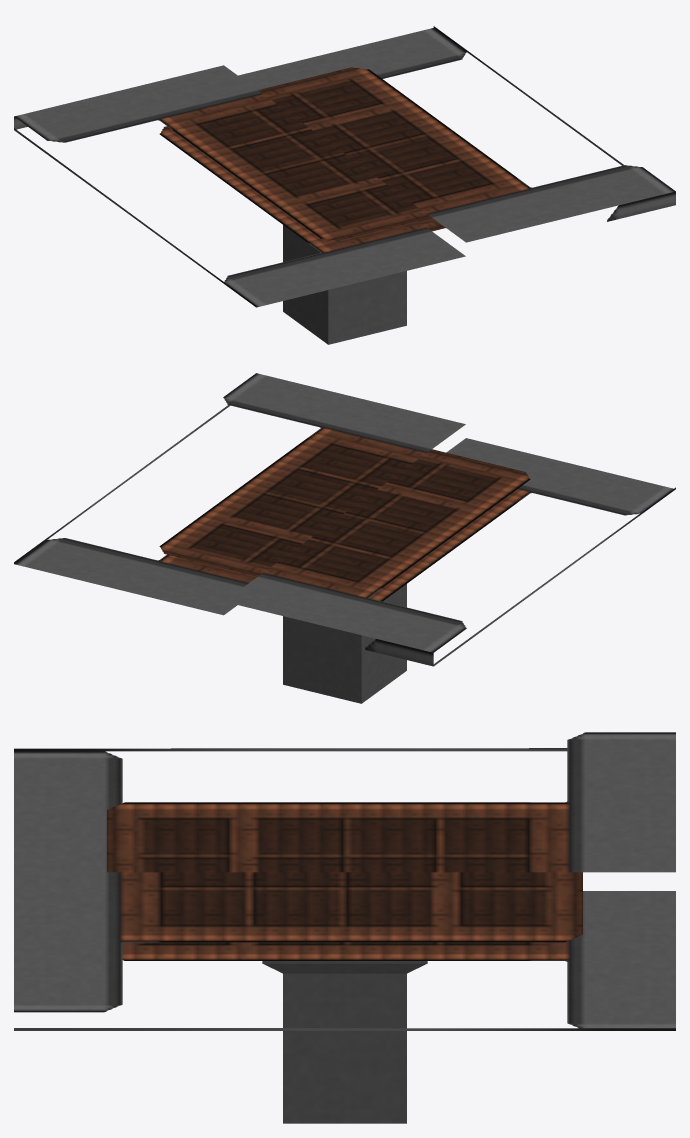
The model's file is upgrade_preview_base.obj.
3 views of the same model, one above another, from view 1: azimuth 30°, elevation 25°; view 2: azimuth 150°, elevation 25°; view 3: azimuth 270°, elevation 25° (orthographic). The views are drawn at different scales.
Visible parts, largest first — view 1: upgrade_preview_base; view 2: upgrade_preview_base; view 3: upgrade_preview_base.
Part boxes in pixels (<box>): upgrade_preview_base: <box>14,26,675,344</box>; upgrade_preview_base: <box>14,373,675,703</box>; upgrade_preview_base: <box>14,732,675,1123</box>.
Size of the model in its own units: 2 by 0.75 by 2.
